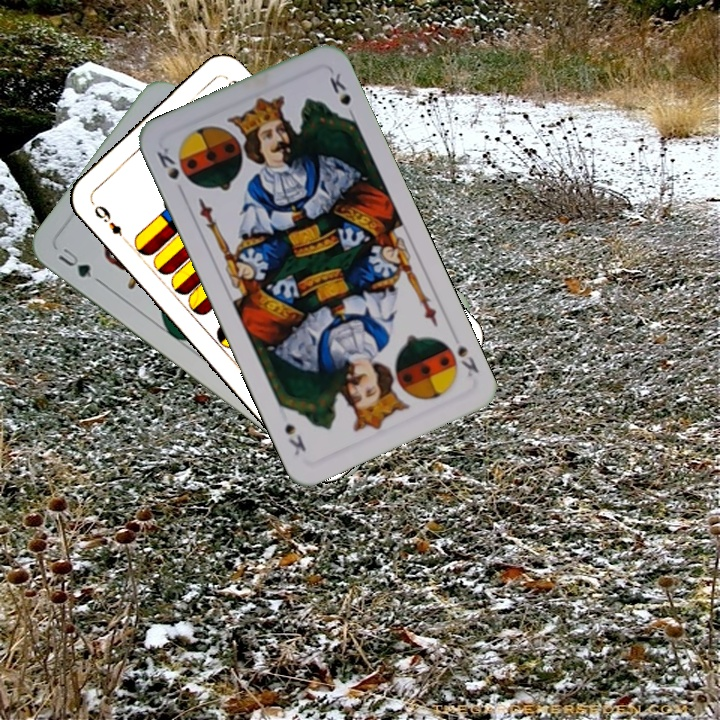E9: (90, 201, 130, 246)
GU: (54, 243, 94, 281)
SK: (152, 143, 182, 183), (453, 341, 482, 380)
